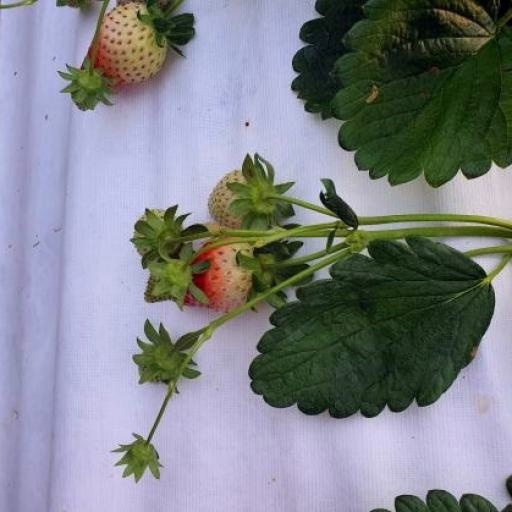Powdery Mildew Fruit: (254, 238, 325, 312)
